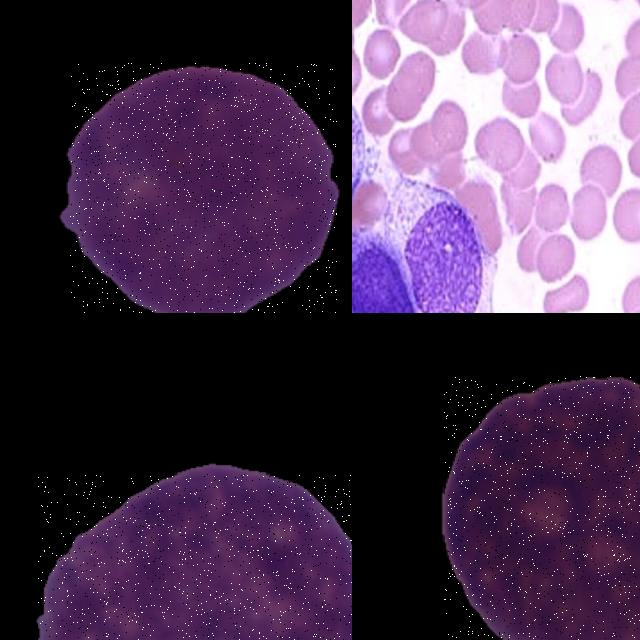ALL Negative Cells: (70, 63, 337, 313)
ALL Positive Cell: (38, 474, 352, 640), (444, 376, 640, 640), (404, 198, 494, 313), (352, 250, 414, 313)
